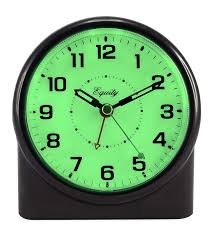alarm_clock: (12, 11, 201, 217), (12, 11, 197, 217), (17, 11, 197, 217), (17, 19, 197, 217), (17, 19, 194, 217)
